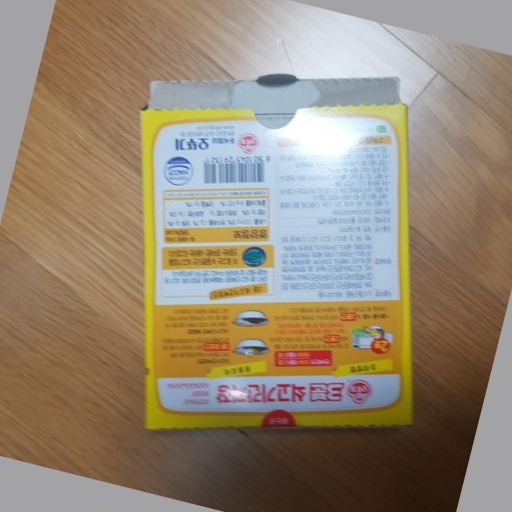Paper_0: (131, 73, 420, 449)
